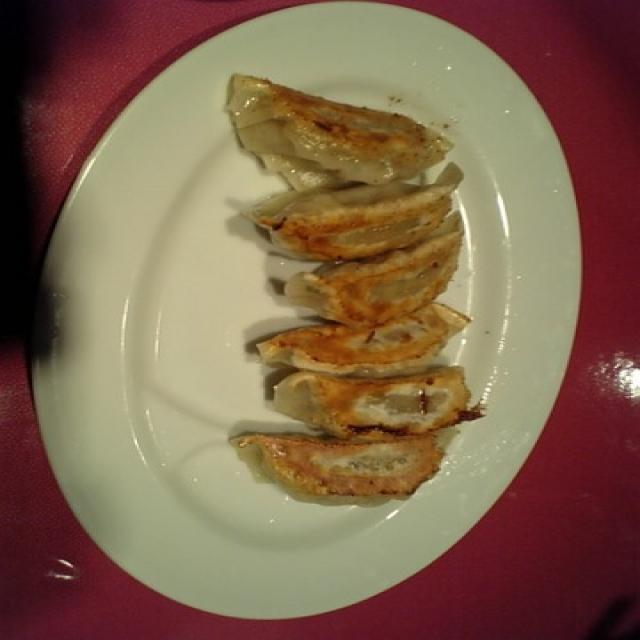带馅早点: (192, 52, 480, 517)
